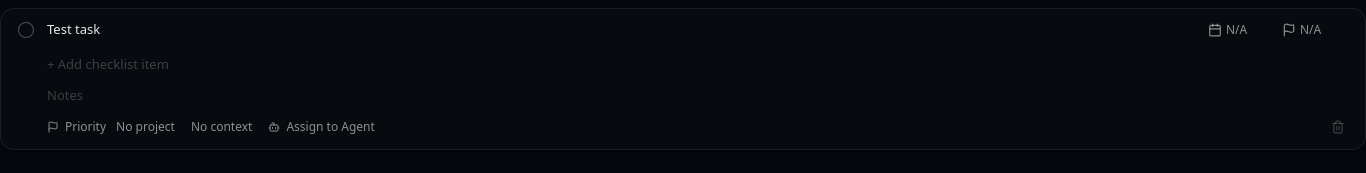
TaskItem (expanded) › resets delete confirmation when cancel is clicked
Step 1. Click the button named "Delete task" → (1338, 127), box [1327,116,1349,138]
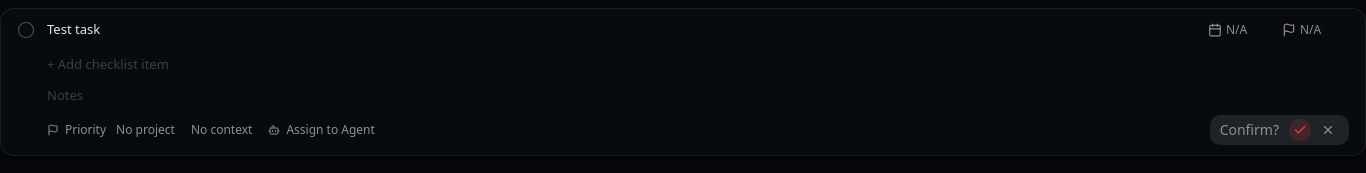
expect the text "Confirm?" is shown: met, box [1220,120,1279,140]
Step 2. Click the button named "Cancel delete task" → (1328, 130), box [1317,119,1339,141]
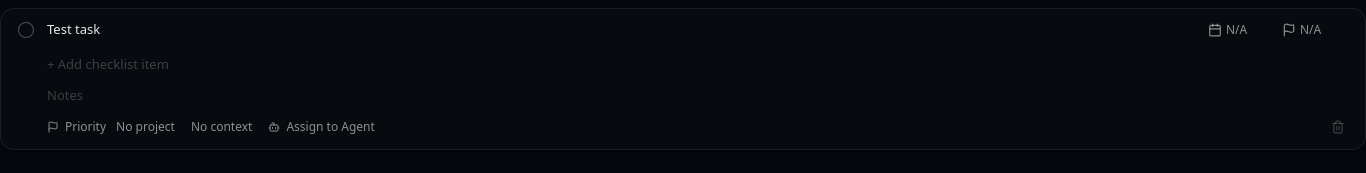
expect the button named "Delete task" is shown: met, box [1327,116,1349,138]
expect the text "Confirm?" is gone: met
